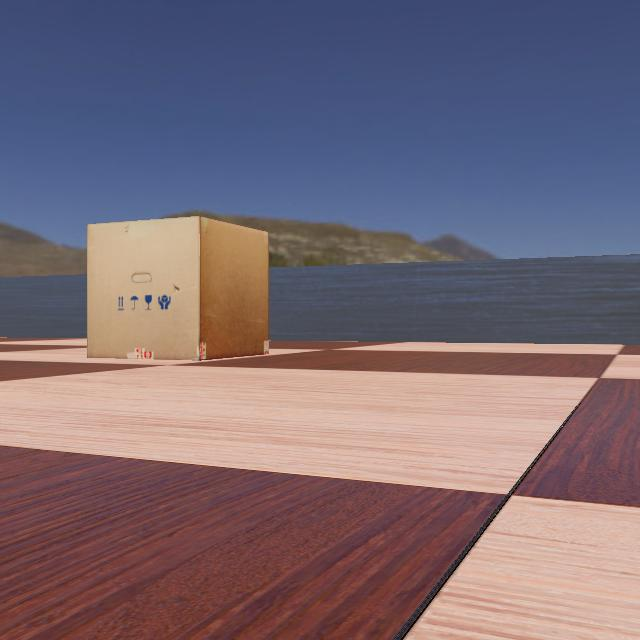cardboard-box: (67, 216, 271, 360)
